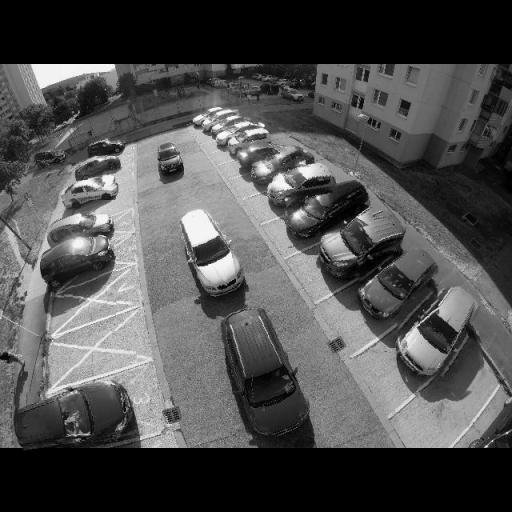busy: (210, 304, 312, 437), (396, 287, 481, 379), (17, 382, 135, 447), (178, 203, 246, 296), (318, 210, 404, 280), (359, 250, 438, 320), (286, 182, 374, 238), (35, 233, 115, 281), (270, 162, 336, 204), (251, 146, 307, 184), (48, 211, 114, 242), (59, 176, 117, 208), (71, 156, 119, 180), (226, 128, 270, 154), (237, 142, 280, 168), (30, 146, 66, 169), (85, 138, 123, 156)
free: (54, 332, 136, 368), (413, 384, 475, 429), (64, 285, 117, 315), (80, 200, 120, 219), (102, 166, 128, 183)
